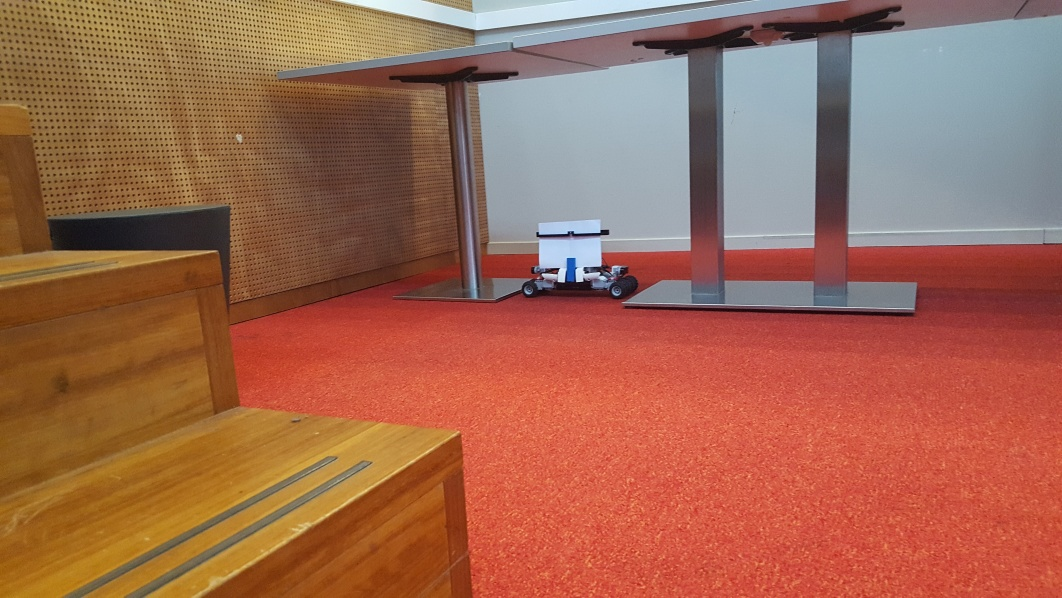car: (519, 218, 640, 300)
